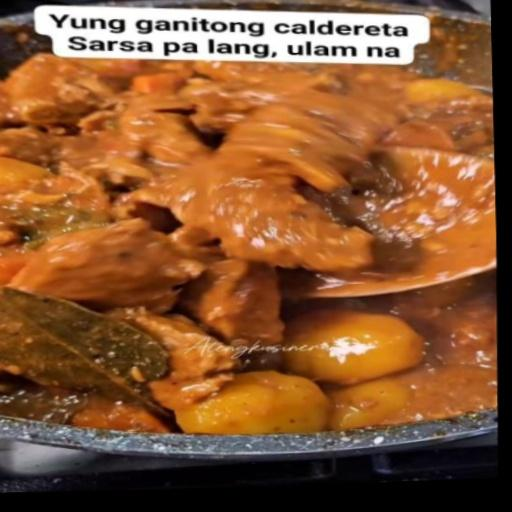pork caldereta: (0, 47, 511, 332)
